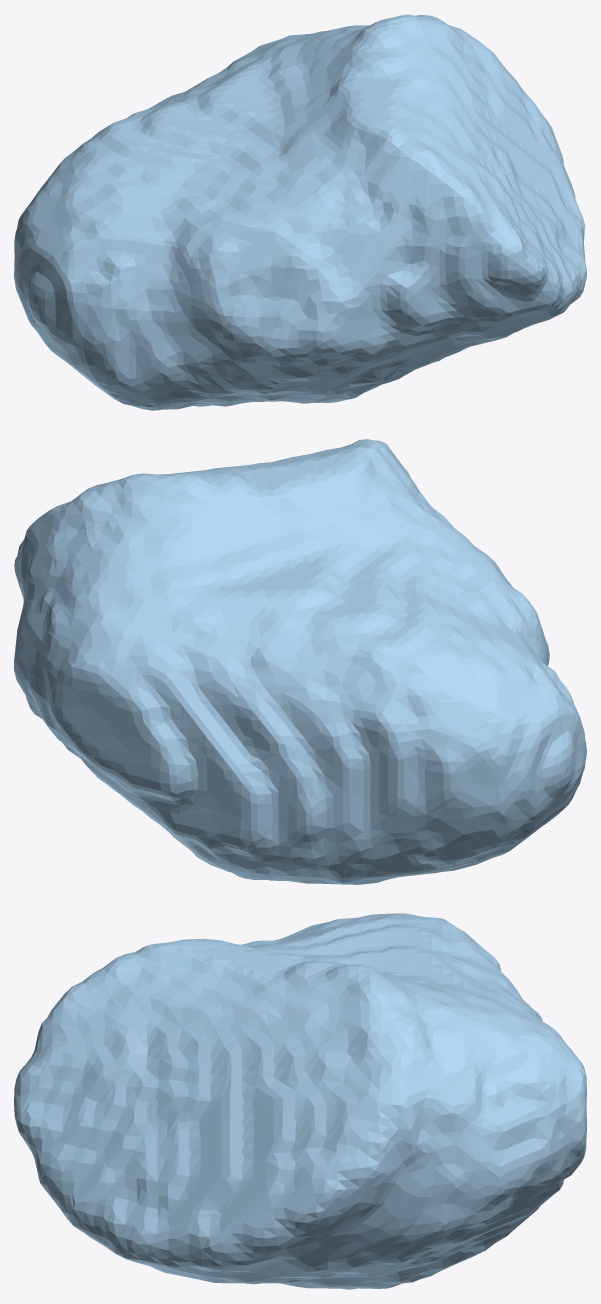
The picture shows the model from 3 angles, top to bottom: view 1: azimuth 30°, elevation 25°; view 2: azimuth 150°, elevation 25°; view 3: azimuth 270°, elevation 25°; orthographic projection. The views are drawn at different scales.
Parts seen in each view (by area): view 1: world; view 2: world; view 3: world.
Part boxes in pixels (bbox=[...]): world: bbox=[14, 14, 586, 410]; world: bbox=[14, 439, 586, 884]; world: bbox=[14, 913, 586, 1289].
Size of the model in its own units: 0.9718 by 0.5973 by 0.8482.
